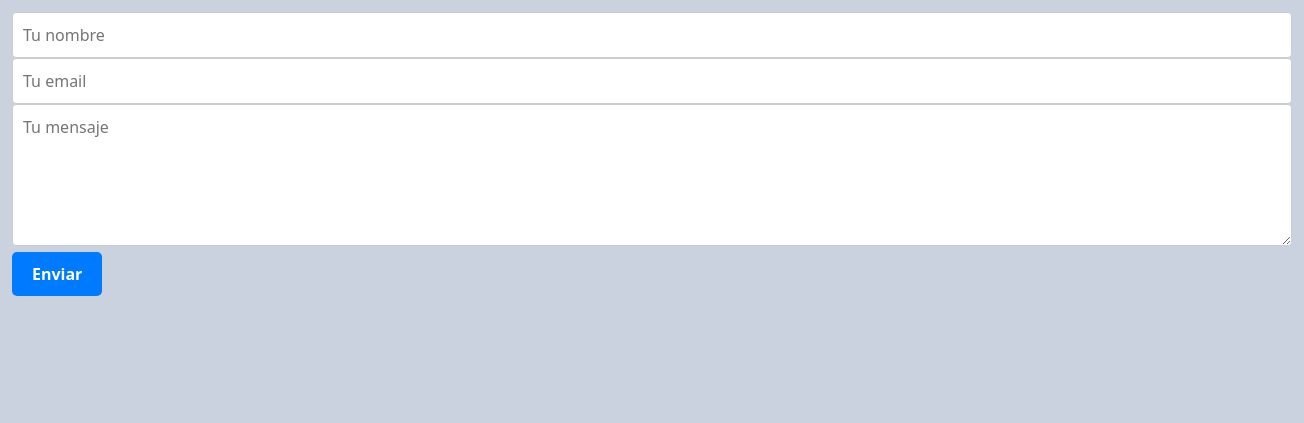
Test: Formulario component › muestra errores cuando se envía vacío
What coordinates should you click on to do the following:
click the button "Enviar"
I would click on:
 (57, 274)
Its box is [12,252,102,296].
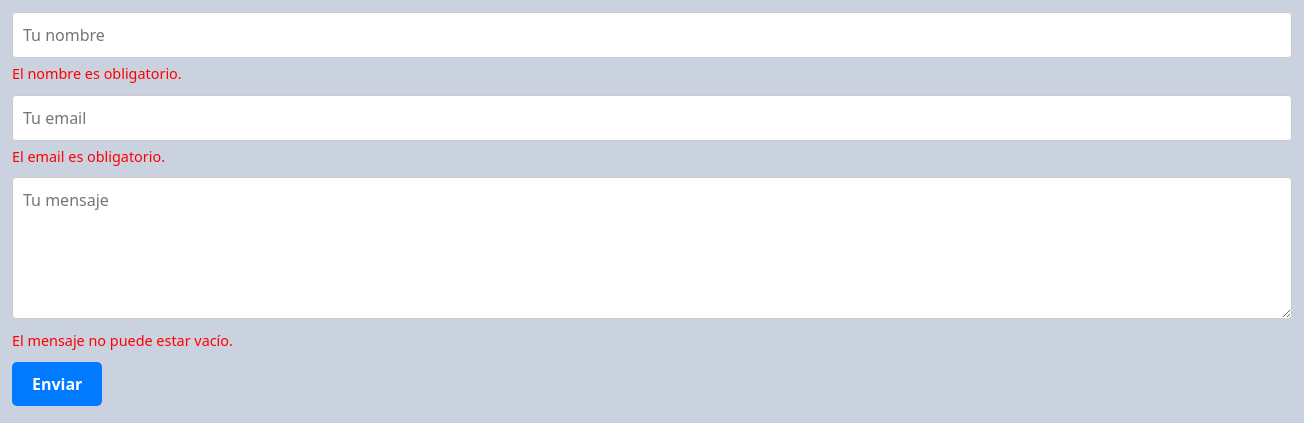
Result: the text "El nombre es obligatorio." is shown at [12,64,182,83]
Result: the text "El email es obligatorio." is shown at [12,147,165,166]
Result: the text "El mensaje no puede estar vacío." is shown at [12,331,233,350]
